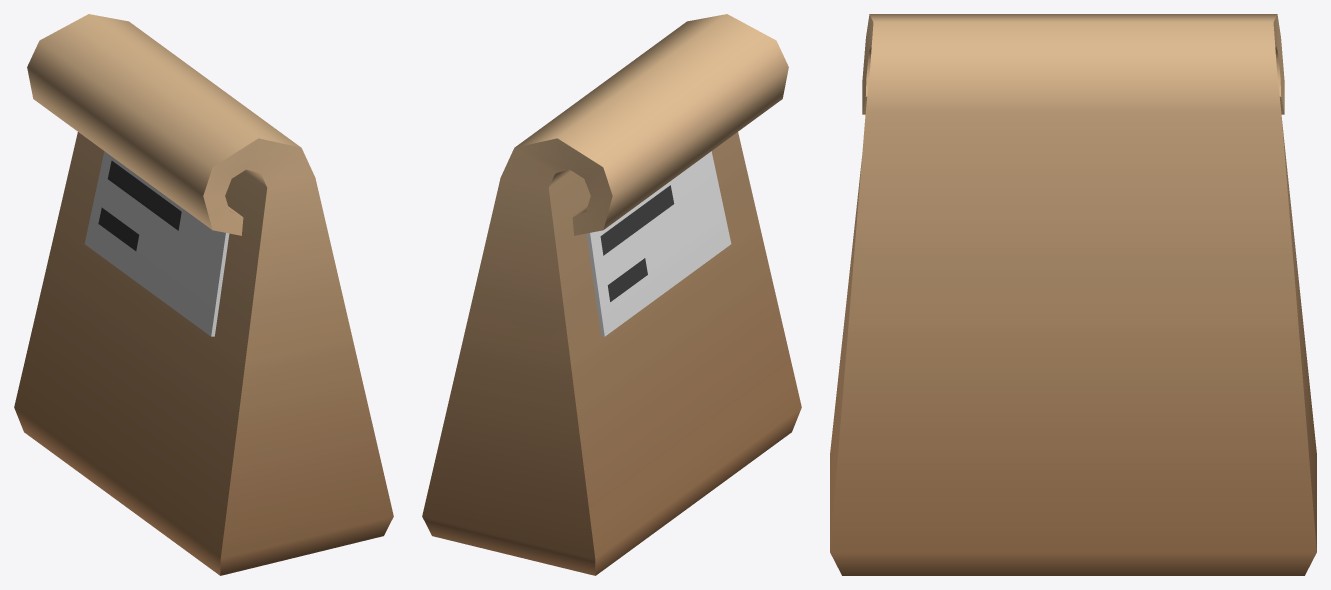
The model's file is BagFood_2_A.fbx.
3 renders of one model, left to right at view 1: azimuth 30°, elevation 25°; view 2: azimuth 150°, elevation 25°; view 3: azimuth 270°, elevation 25°, orthographic. The views are drawn at different scales.
Visible parts, largest first — view 1: BagFood_2_A; view 2: BagFood_2_A; view 3: BagFood_2_A.
Boxes of the visible parts, left/top/right/bottom form: BagFood_2_A: left=14, top=14, right=393, bottom=575; BagFood_2_A: left=422, top=14, right=801, bottom=575; BagFood_2_A: left=830, top=14, right=1316, bottom=575.
Bounding box in the file's own units: 15.18 × 35.13 × 30.98.
